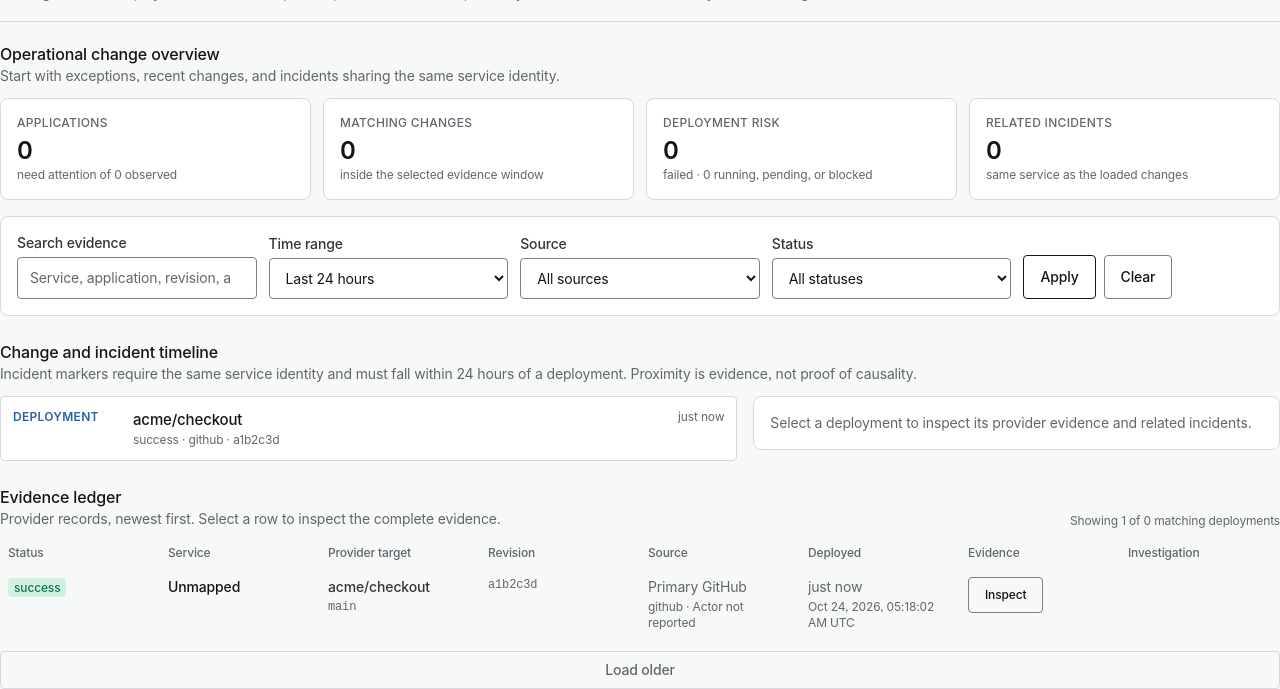
Test case: DeploymentsPanel loading/error characterization › characterization: Load older is hidden while a page is in flight, rows stay mounted
(page scrolled)
Click the button "Load older" at (640, 670), box x1=0 y1=650 x2=1279 y2=688
(page scrolled)
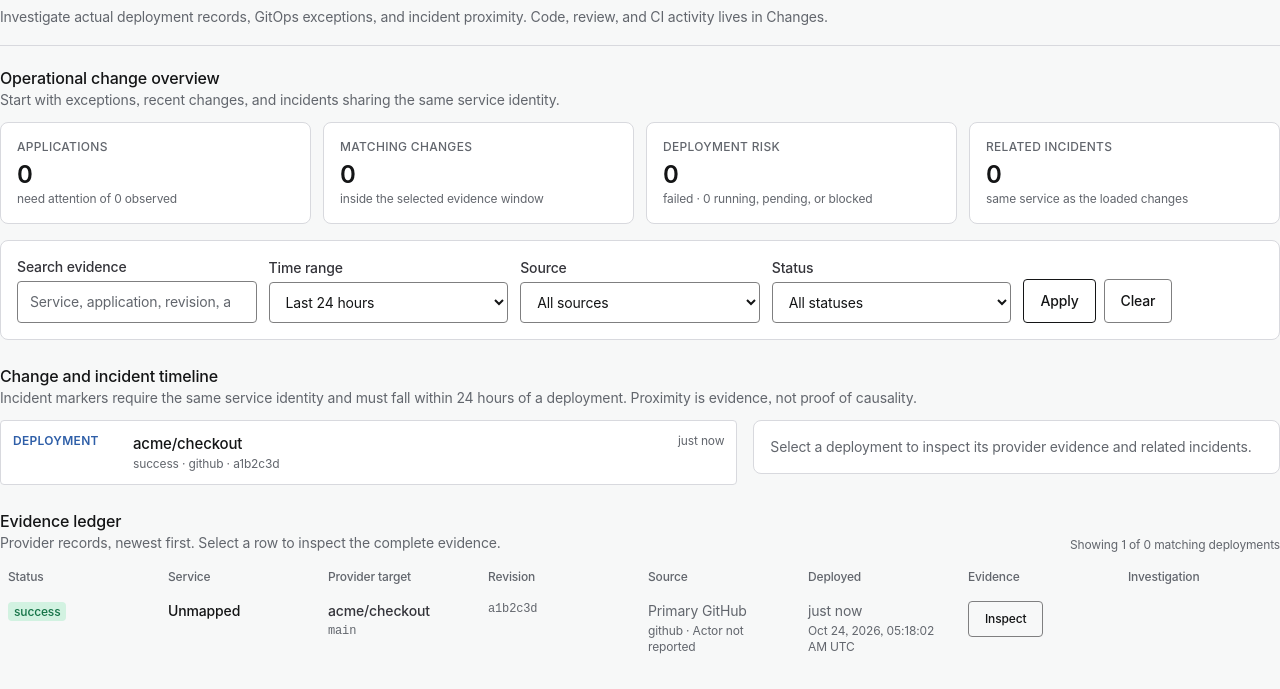
Check: the text "acme/checkout" below "Change and incident timeline" is shown, box x1=133 y1=434 x2=242 y2=453
Check: the button "Load older" is gone
